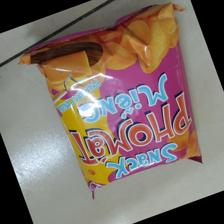Oishi_phomat: (15, 2, 211, 200)
